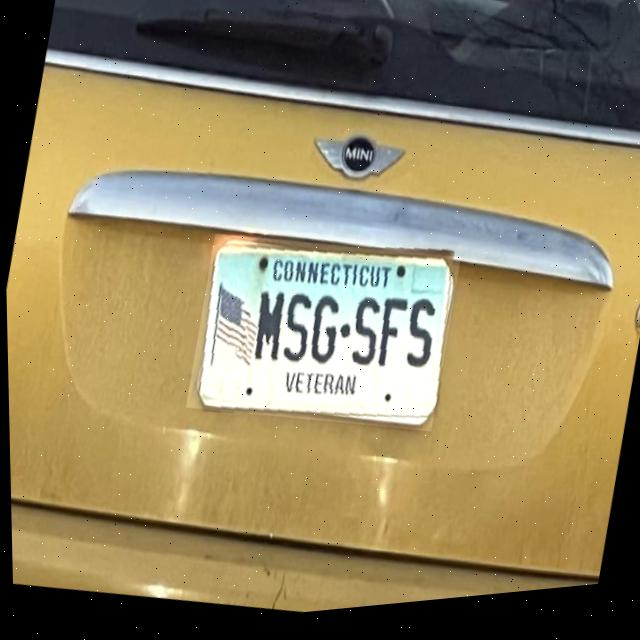LicensePlate: (191, 248, 453, 428)
